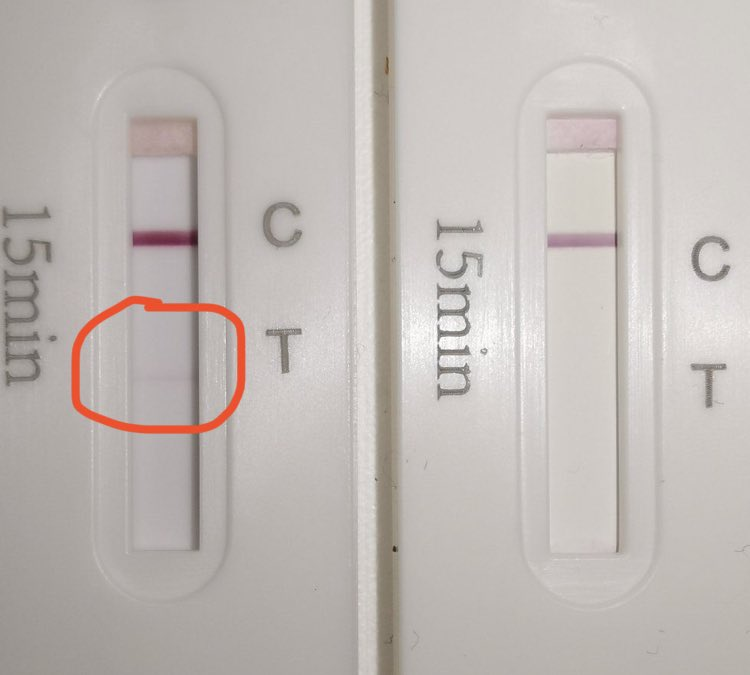negative: (542, 113, 627, 565)
